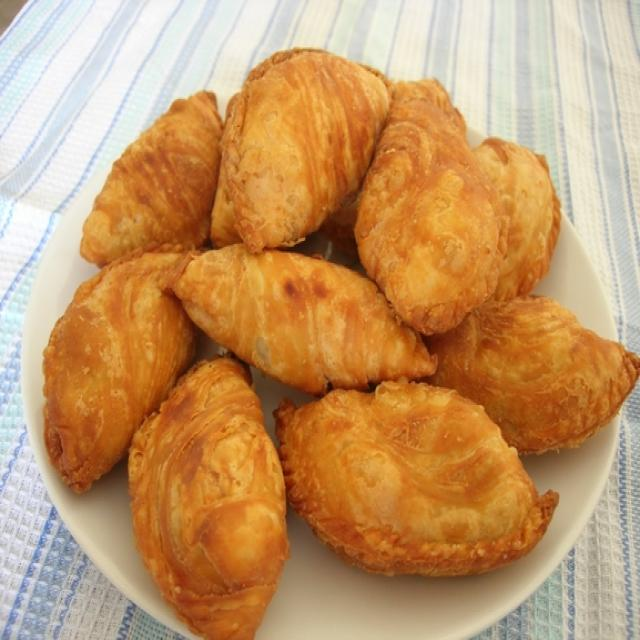炸货点心: (46, 50, 614, 615)
